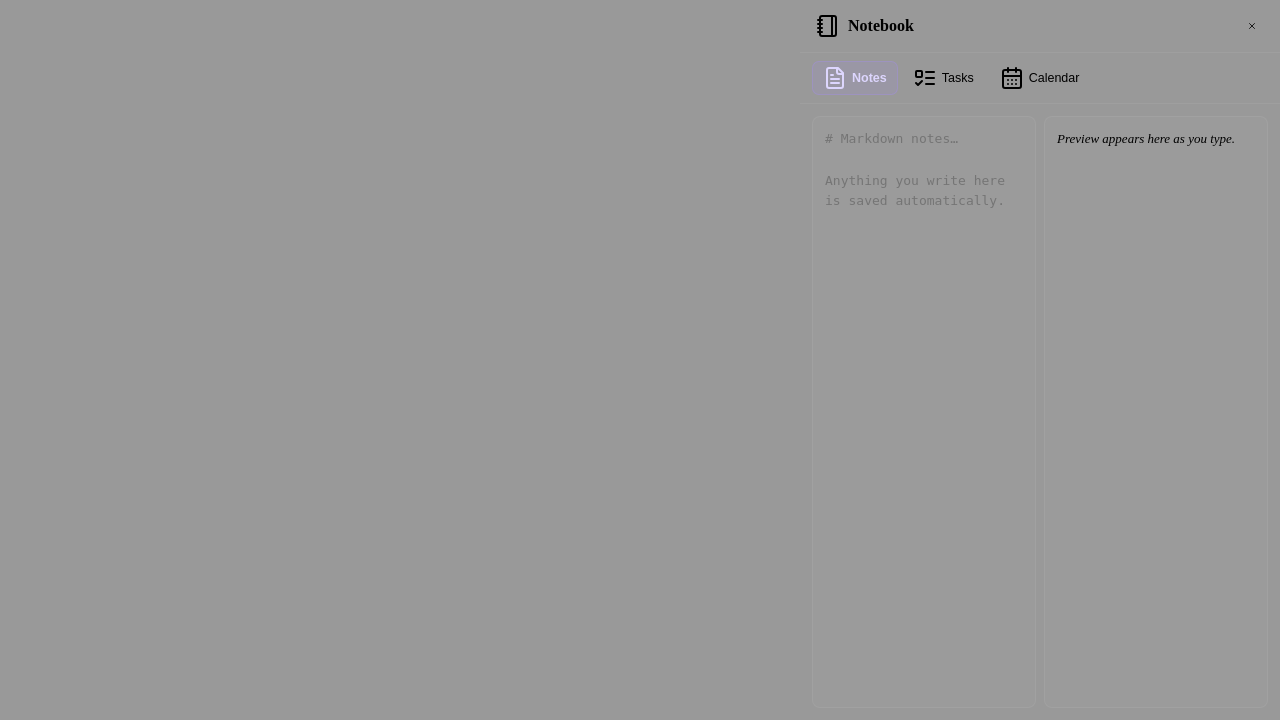
Test: <NotebookPanel> › 7c. Calendar empty month shows grid with no task dots
This screenshot has width=1280, height=720.
Click the tab "Calendar".
click(1040, 78)  # box [989,61,1090,95]
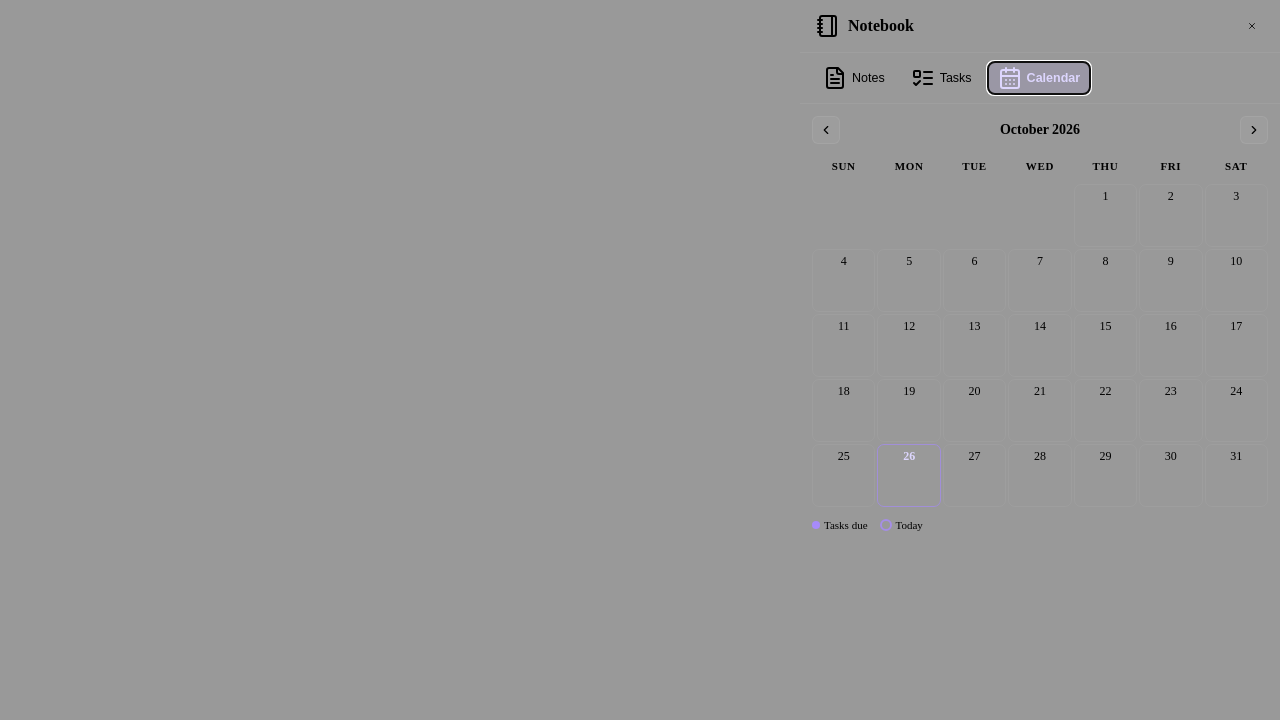
Now the text "Sun" is shown, box [832,160,856,172]
Now the text "Mon" is shown, box [895,160,924,172]
